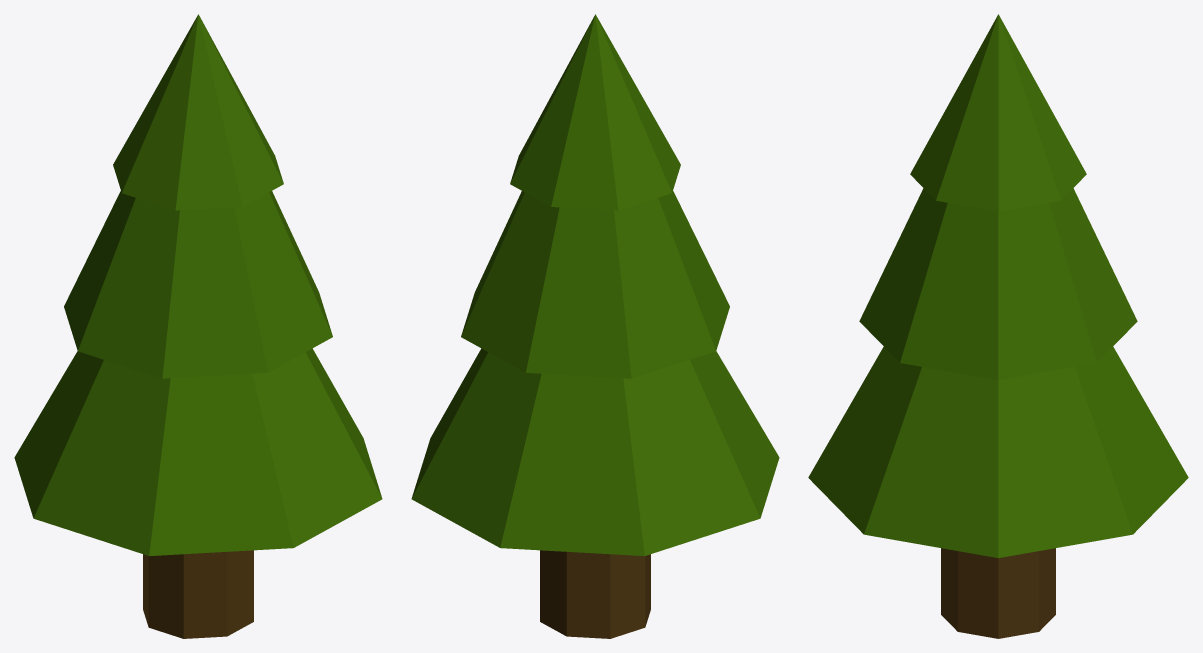
File: cartoontree.fbx
3 views of the same model, side by side, from view 1: azimuth 30°, elevation 25°; view 2: azimuth 150°, elevation 25°; view 3: azimuth 270°, elevation 25° (orthographic).
Parts seen in each view (by area): view 1: cartoontree; view 2: cartoontree; view 3: cartoontree.
Part boxes in pixels (left/top/right/bottom): cartoontree: left=14, top=14, right=382, bottom=638; cartoontree: left=411, top=14, right=779, bottom=638; cartoontree: left=808, top=14, right=1188, bottom=638.
Size of the model in its own units: 76.01 by 132 by 76.01.
